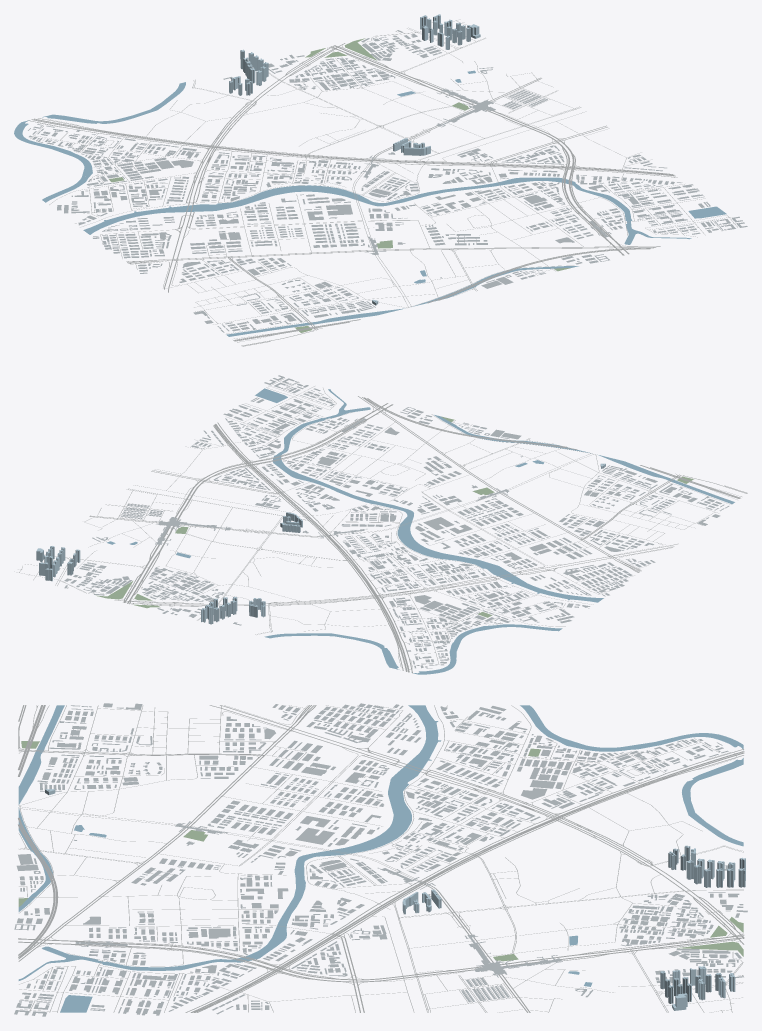
File: overview-known--6_6.glb
3 views of the same model, one above another, from view 1: azimuth 30°, elevation 25°; view 2: azimuth 150°, elevation 25°; view 3: azimuth 270°, elevation 25° (orthographic). The views are drawn at different scales.
Size of the model in its own units: 4074 by 136 by 4029.
